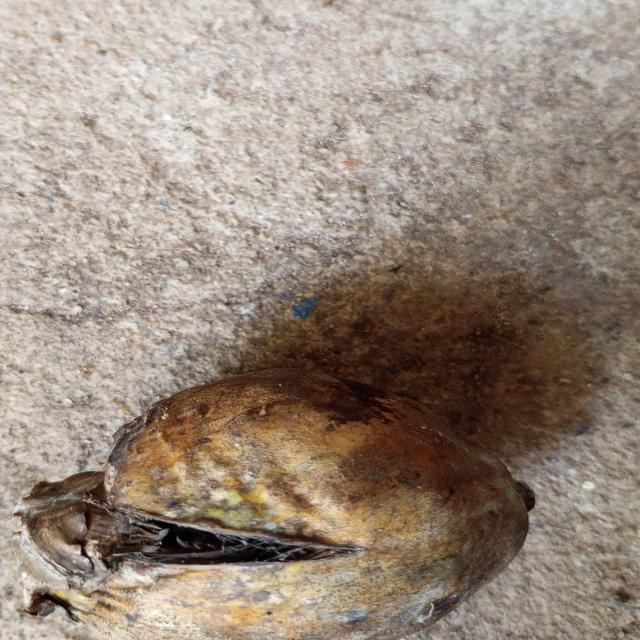damaged: (14, 369, 534, 640)
